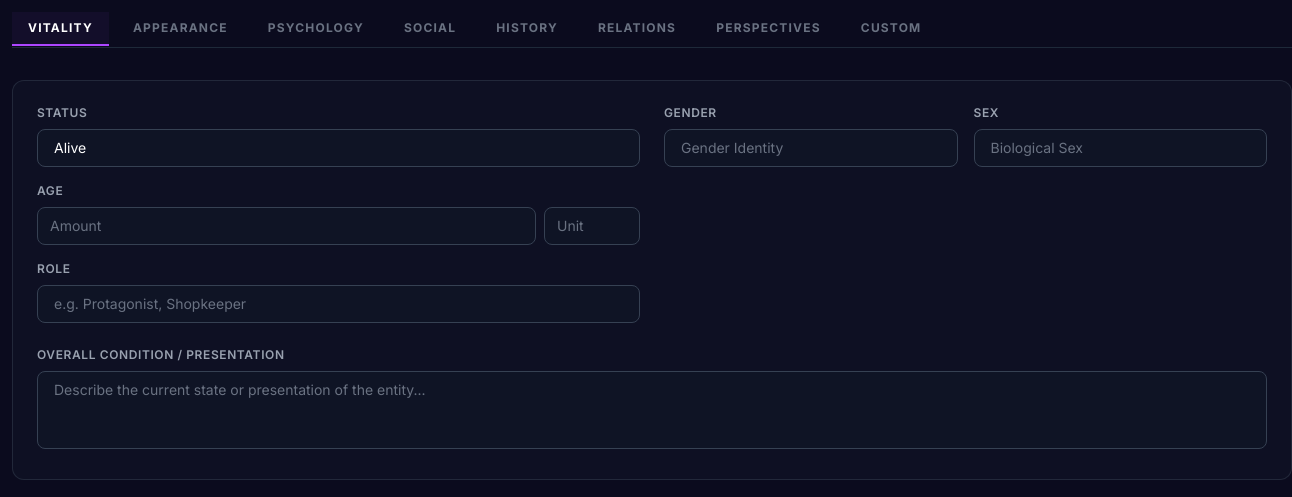
Test: EntityMetadataEditor › switches tabs when clicked
This screenshot has width=1292, height=497.
Expected: the field labelled "Status" is shown, [37,129,640,167]
Note: Switch to Appearance
Step 1. Click the button "Appearance" → click(180, 29), box [117,12,244,46]
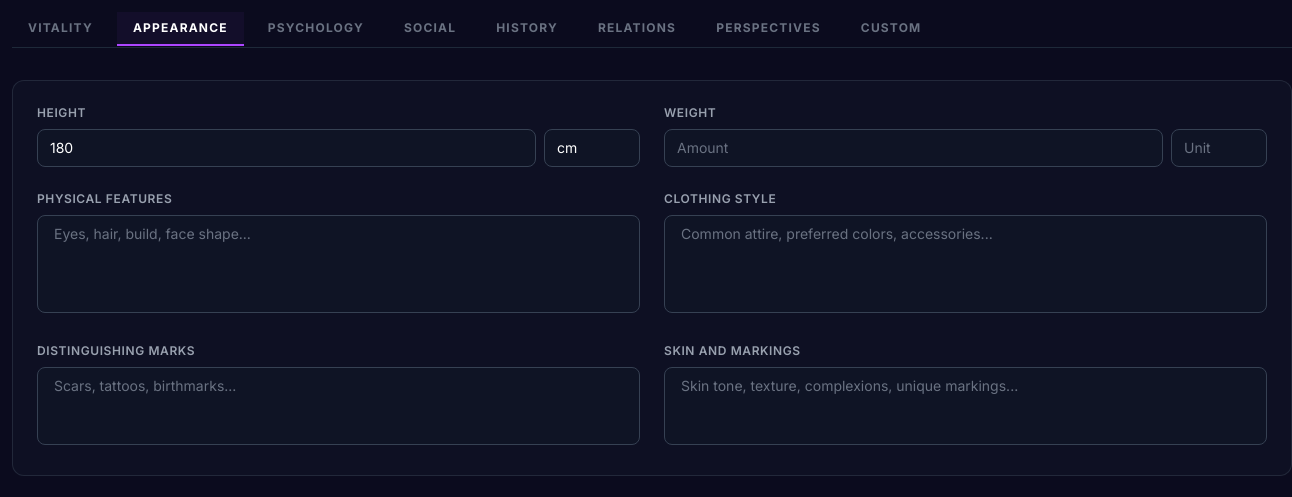
Now the number field labelled "Height" is shown, box [37,129,536,167]
